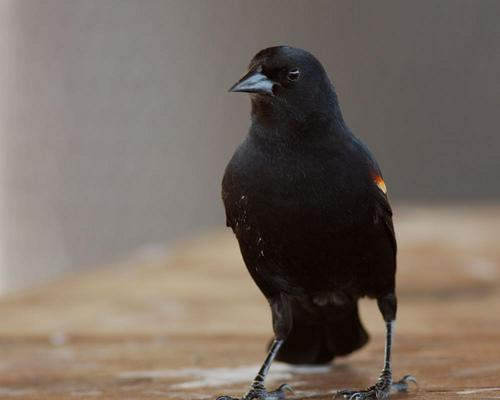010.Red_winged_Blackbird: (220, 46, 420, 400)
